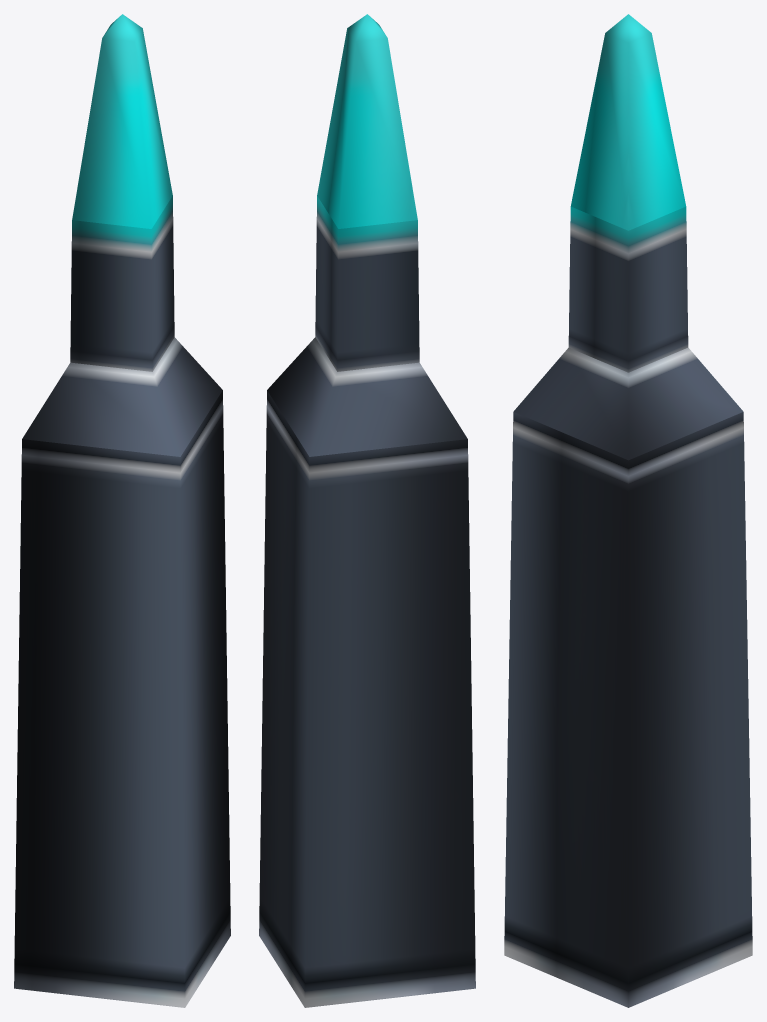
File: bullet1.FBX
3 renders of one model, left to right at view 1: azimuth 30°, elevation 25°; view 2: azimuth 150°, elevation 25°; view 3: azimuth 270°, elevation 25°, orthographic.
Visible parts, largest first — view 1: bullet1; view 2: bullet1; view 3: bullet1.
Boxes of the visible parts, box(x1,y1,x2,y2) form: bullet1: box(14, 14, 230, 1007); bullet1: box(259, 14, 475, 1007); bullet1: box(504, 14, 752, 1007).
Bounding box in the file's own units: 0.0879 × 0.367 × 0.0879.
